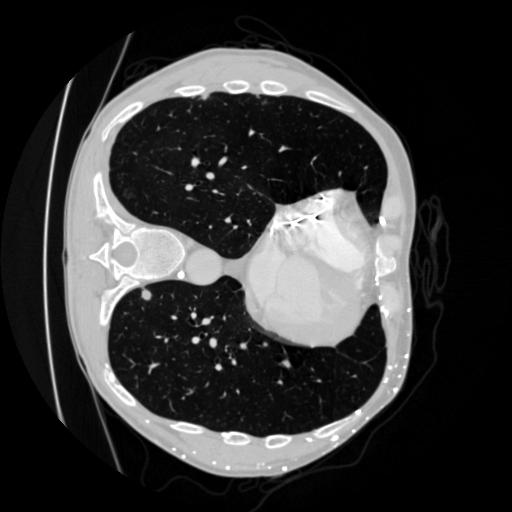nodule: (139, 286, 156, 303)
